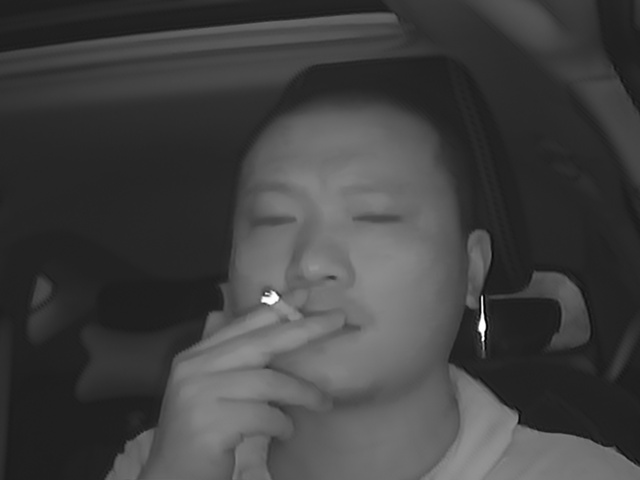hand: (194, 279, 346, 454)
